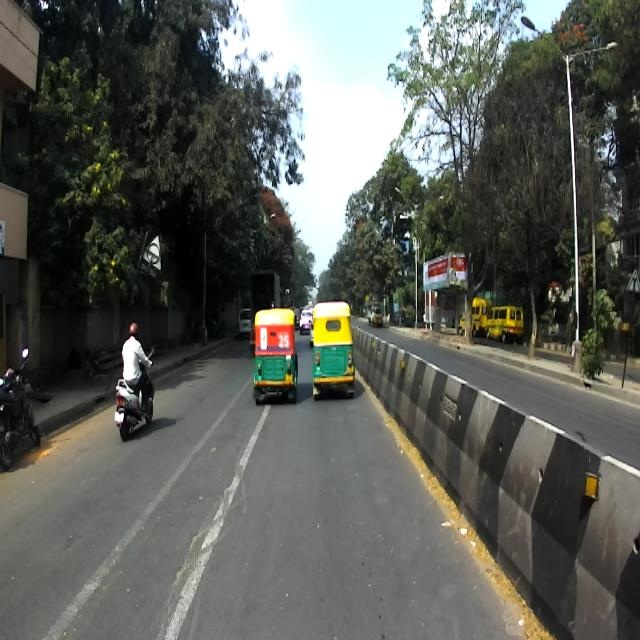auto ahead at: (308, 306, 358, 404), (250, 306, 298, 406)
barrier ahead at: (365, 331, 639, 640)
motorcycle ahead at: (0, 342, 40, 471), (112, 366, 160, 441)
